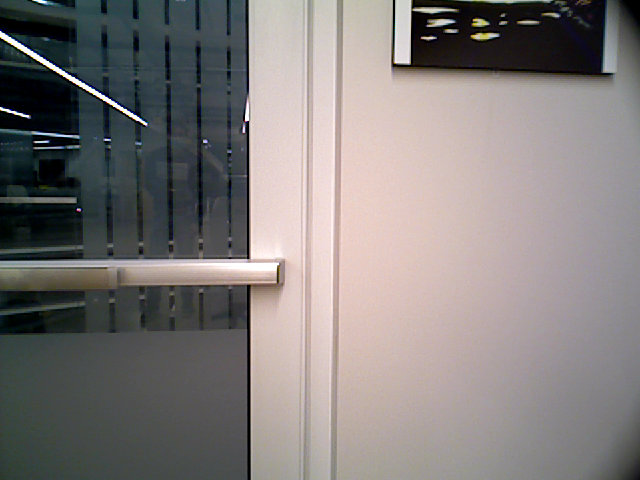painting3: (396, 1, 616, 75)
